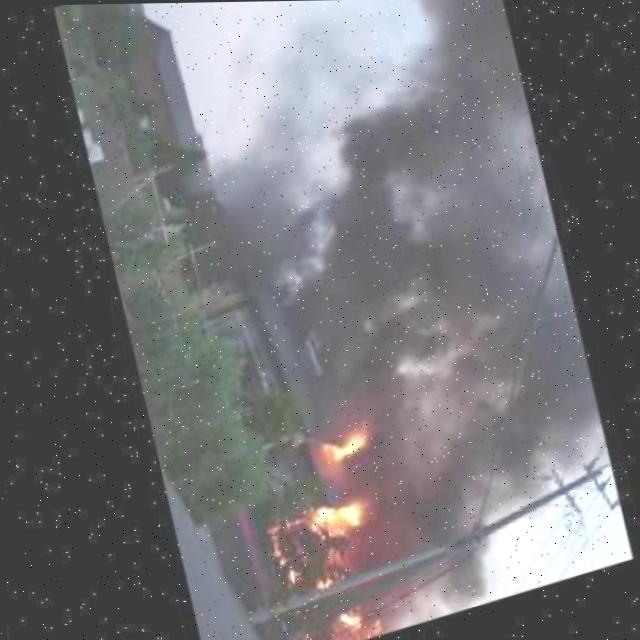fire: (306, 498, 365, 547), (319, 429, 370, 468), (265, 527, 287, 569)
